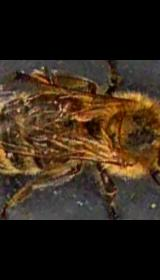varroa_mite: (54, 80, 80, 120)
